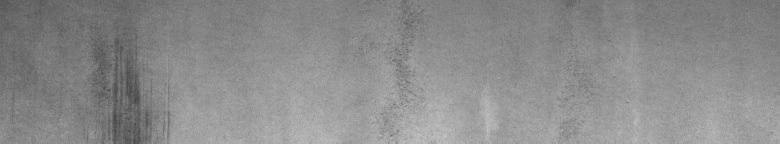ka: (88, 37, 172, 136)
